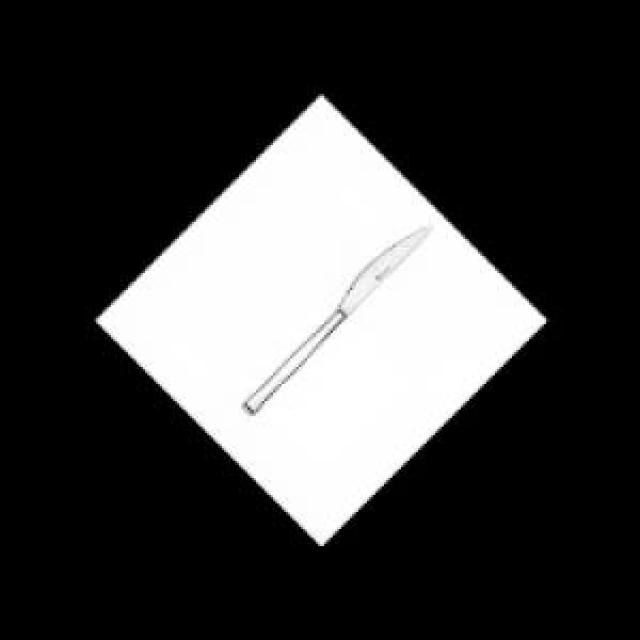knife: (243, 224, 435, 419)
